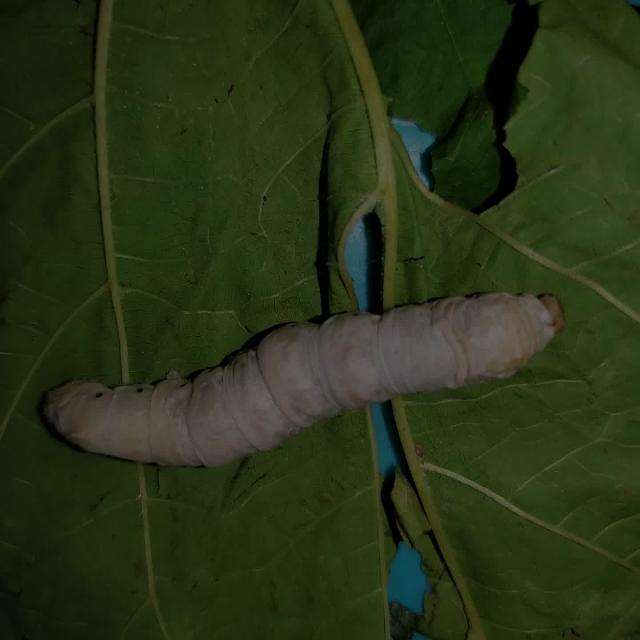Grasserie: (28, 284, 598, 472)
